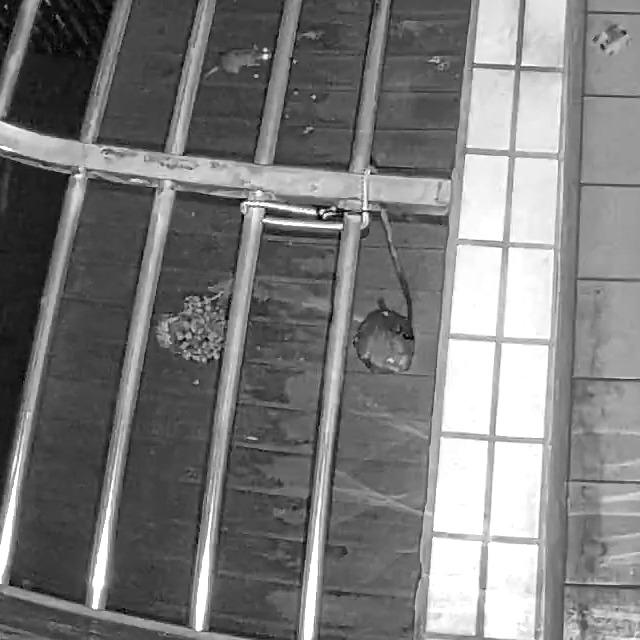rat: (196, 42, 277, 86)
